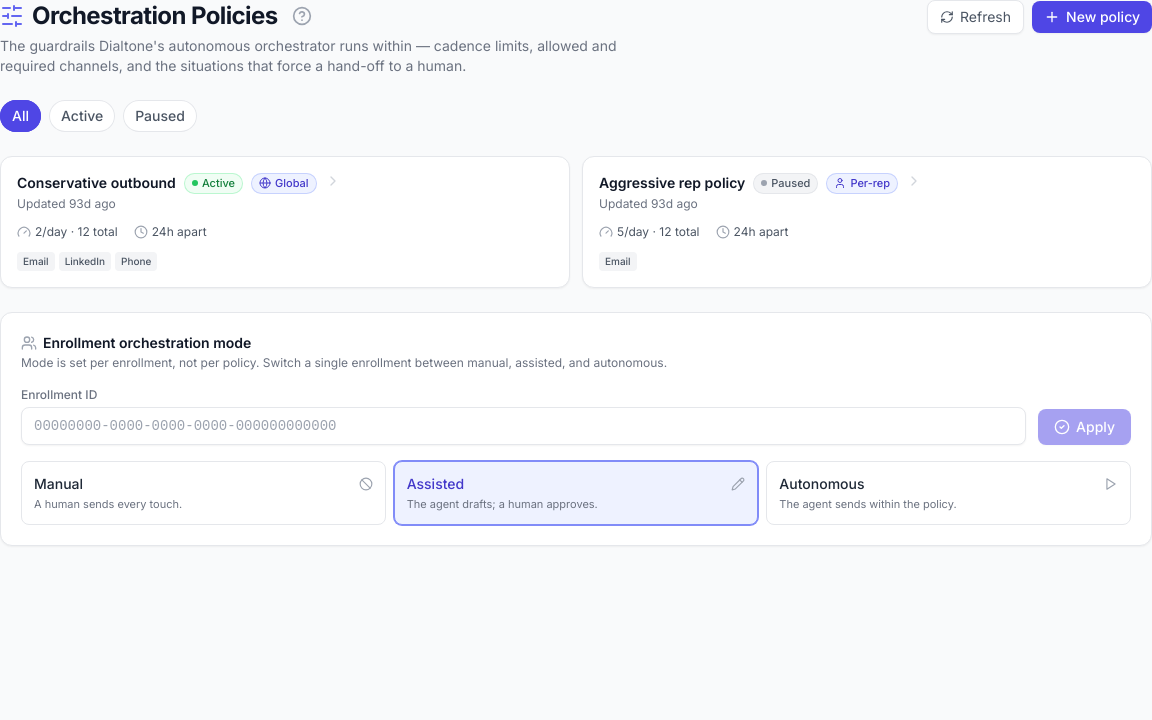
it: DialtonePolicies page › blocks saving when a required channel is not allowed
Expected: the text "Conservative outbound" is shown, left=17, top=173, right=176, bottom=193
Click the button "New policy" at (1092, 17), box left=1032, top=1, right=1151, bottom=33
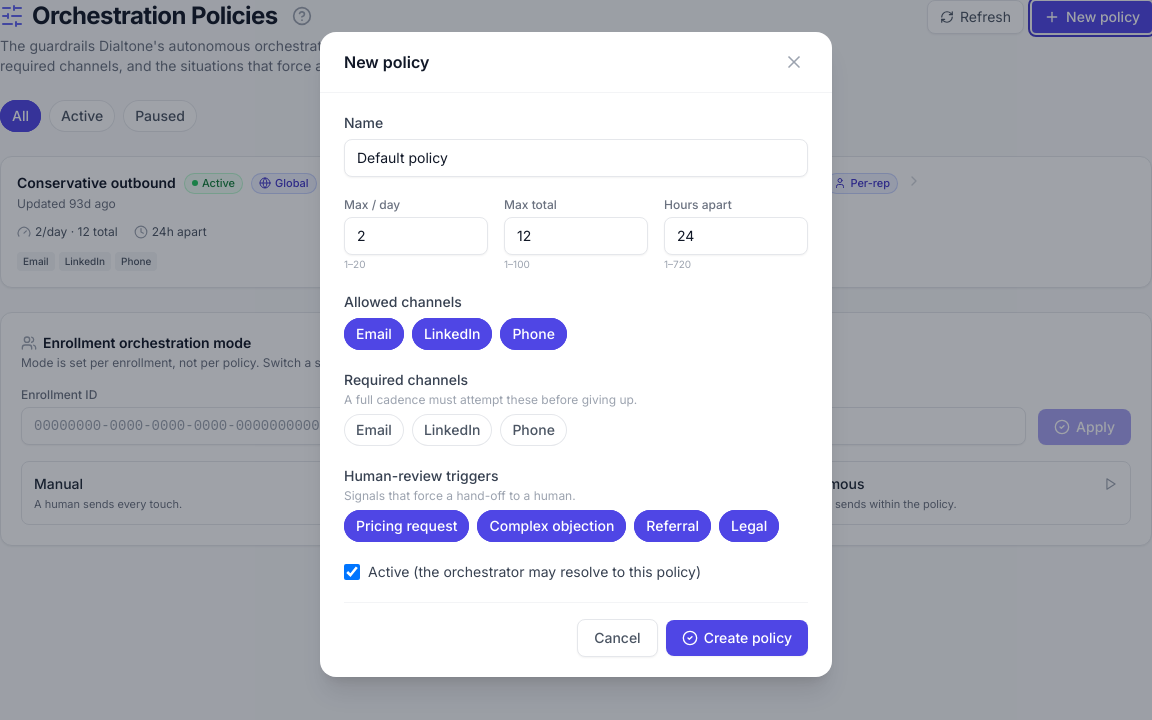
Click the button "Phone" below "Allowed channels" at (534, 334), box left=500, top=318, right=567, bottom=350
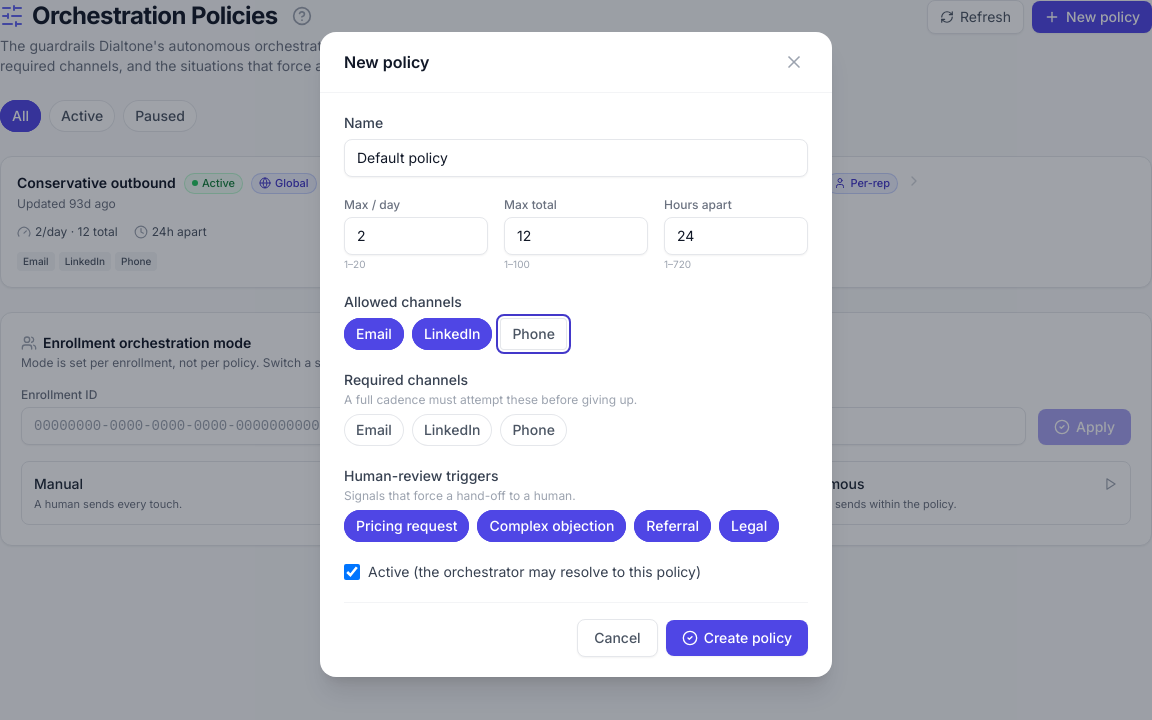
Click the 2nd button "Phone" at (534, 430), box left=500, top=414, right=567, bottom=446
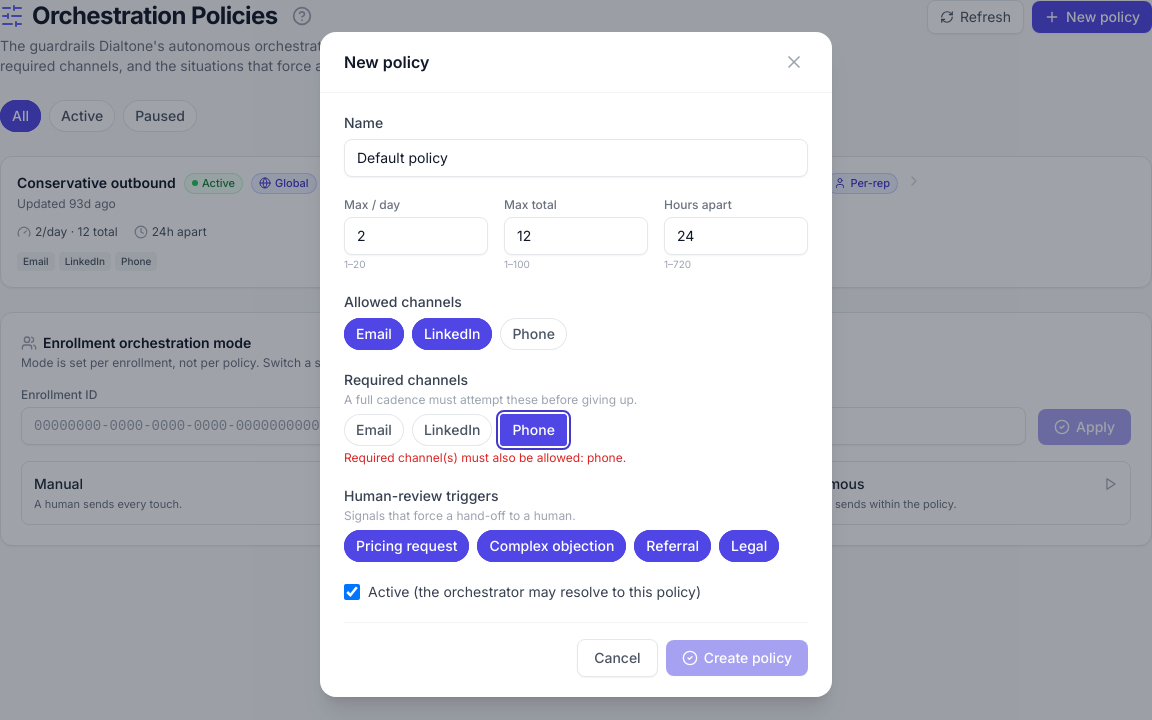
Expected: the text "Required channel(s) must also be allowed: phone." is shown, left=344, top=450, right=626, bottom=465
Expected: the button "Create policy" is disabled, left=666, top=640, right=808, bottom=676
